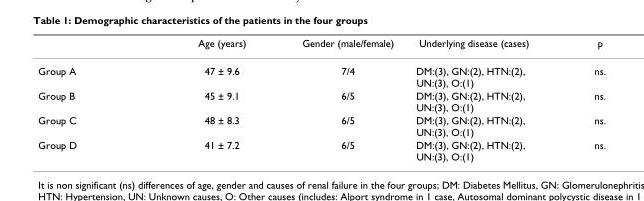table: (37, 36, 605, 161)
table column: (404, 36, 560, 161), (136, 36, 273, 161), (273, 36, 404, 161), (37, 36, 136, 161), (560, 36, 605, 161)
table column header: (37, 36, 605, 56)
table row: (37, 56, 605, 88), (37, 88, 605, 113), (37, 113, 605, 137), (37, 137, 605, 161), (37, 36, 605, 56)
